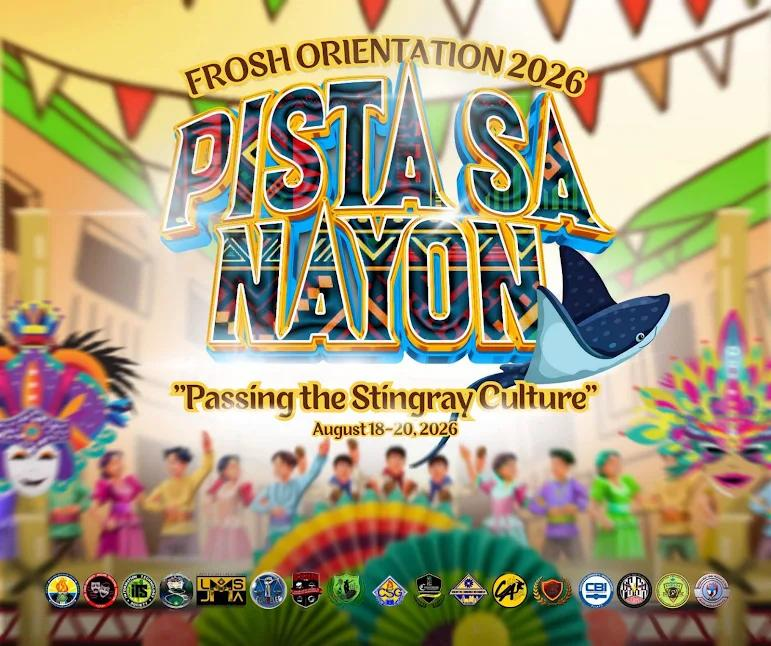logo: (195, 573, 249, 608), (693, 569, 733, 612), (369, 571, 411, 611), (532, 574, 577, 610), (43, 570, 83, 610), (249, 570, 288, 611), (325, 570, 367, 608), (121, 571, 159, 612), (449, 570, 490, 608), (618, 569, 655, 611), (82, 571, 120, 611), (493, 570, 531, 610), (579, 568, 616, 609), (160, 569, 196, 611), (411, 570, 448, 610), (655, 571, 693, 609), (289, 569, 324, 610)
text: (148, 26, 622, 371), (167, 373, 606, 444)
